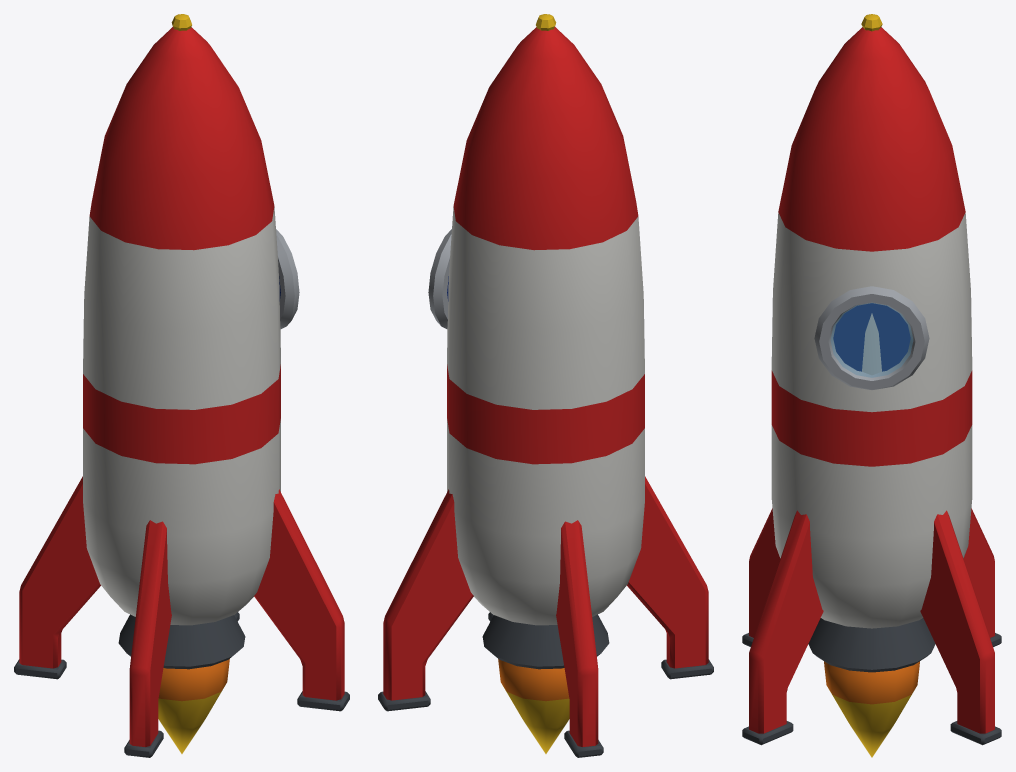
The model's file is rocket.glb.
3 views of the same model, side by side, from view 1: azimuth 30°, elevation 25°; view 2: azimuth 150°, elevation 25°; view 3: azimuth 270°, elevation 25° (orthographic).
Visible parts, largest first — view 1: Body, Flame_glow; view 2: Body, Flame_glow; view 3: Body, Flame_glow.
Boxes of the visible parts, box(x1,y1,x2,y2) form: Body: box(14, 14, 349, 757); Flame_glow: box(158, 659, 229, 753); Body: box(378, 14, 713, 757); Flame_glow: box(498, 659, 569, 753); Body: box(742, 14, 1001, 745); Flame_glow: box(824, 661, 919, 757).
Bounding box in the file's own units: 1.94 × 6.13 × 1.94.
